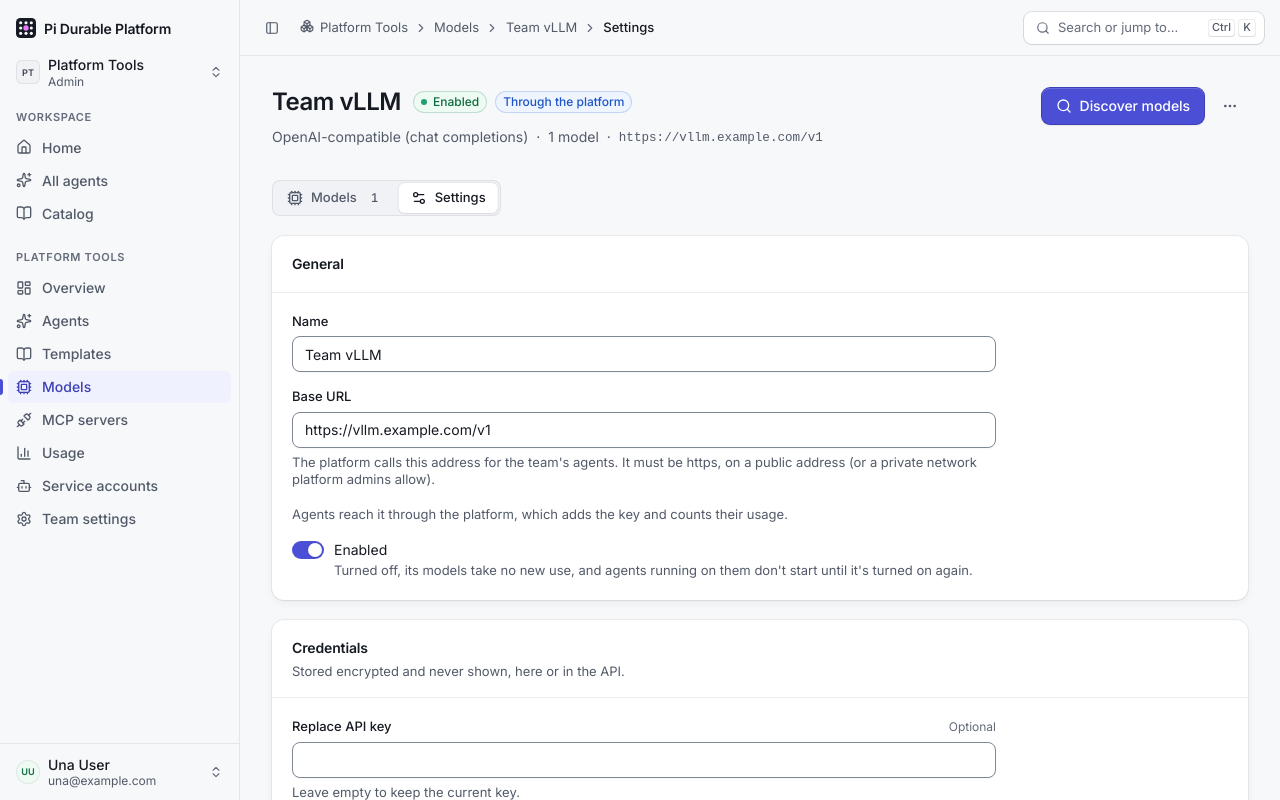
Scenario: Team › Models › a provider › has no access mode in its settings, saves with If-Match through the team's route, and shows a refused address
Expected: the text "Agents reach it through the platform" is shown, [292, 506, 788, 522]
Replace the text in the field labelled "Base URL" with "https://nowhere.example/v1" at x=644, y=430, box [292, 412, 996, 448]
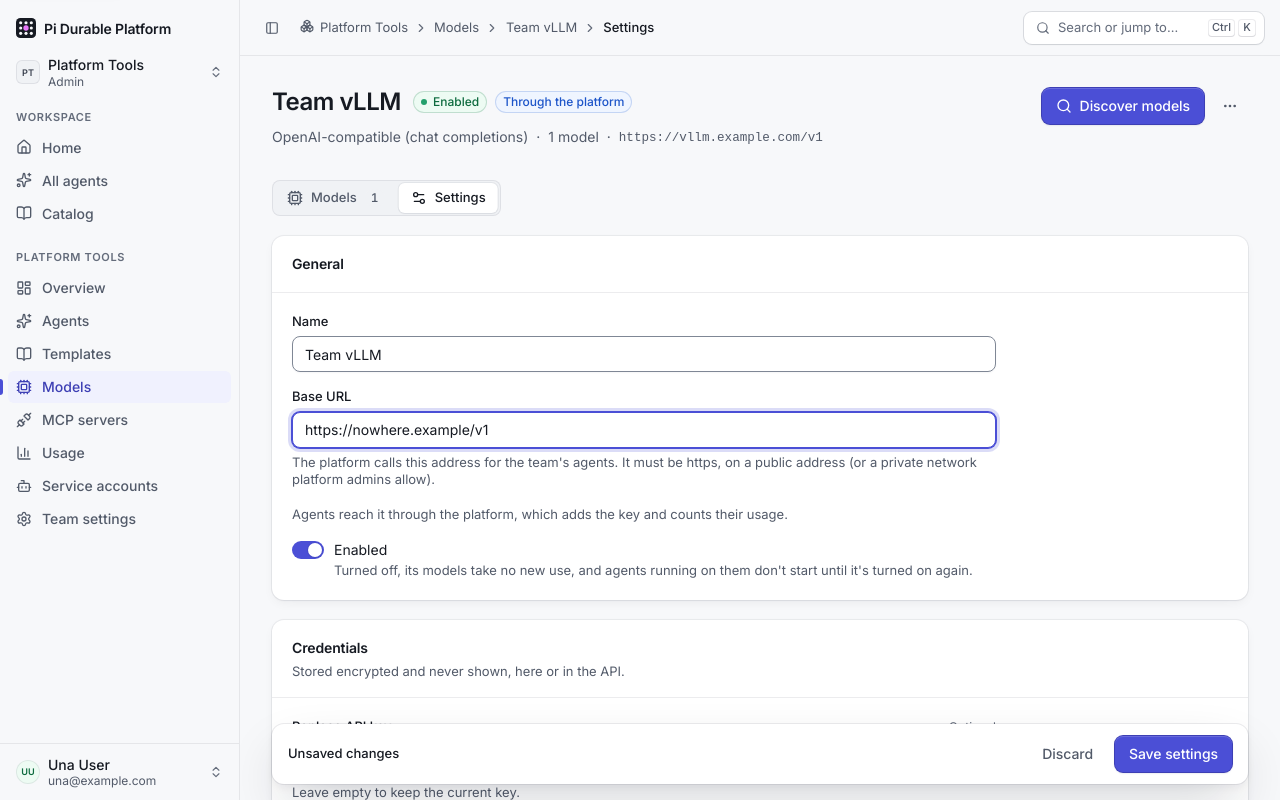
Click the button "Save settings" at x=1174, y=754, box [1115, 736, 1232, 772]
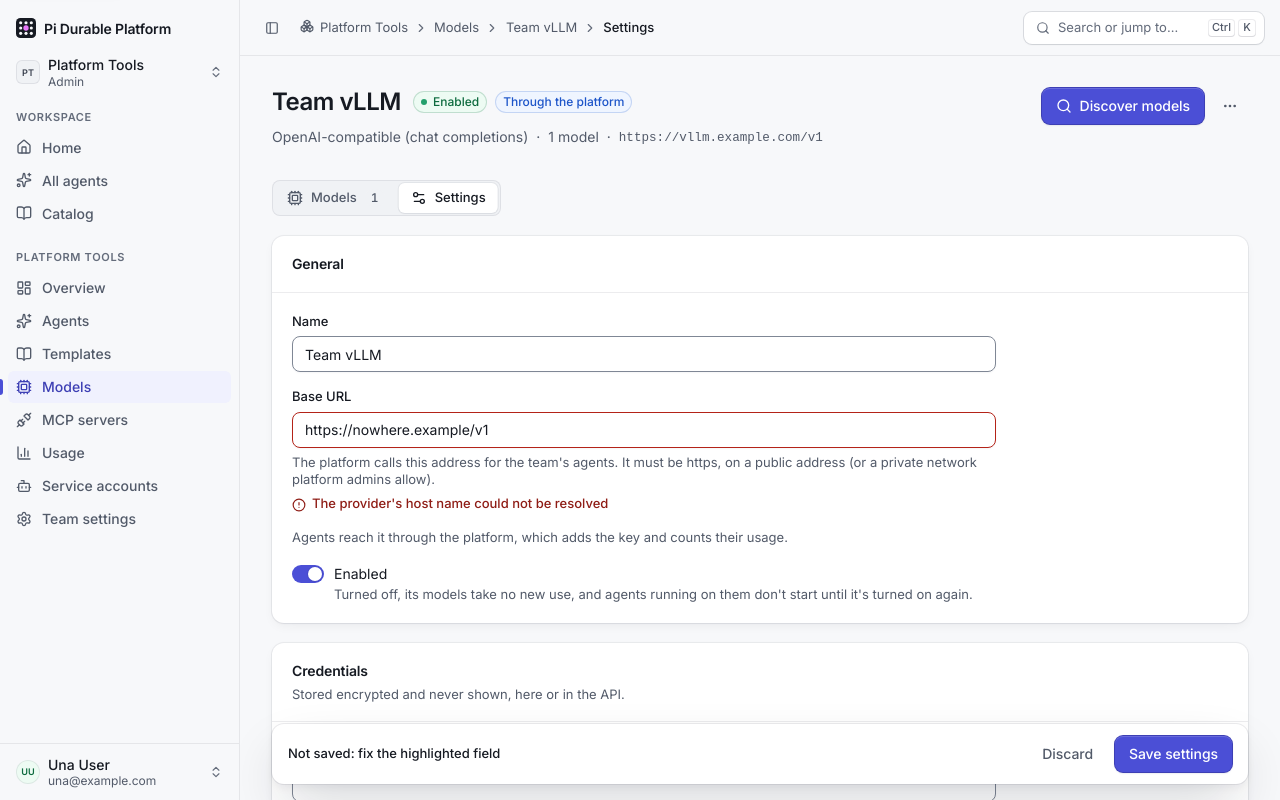
Expected: the text "The provider's host name could not be resolved" is shown, [312, 495, 608, 512]
